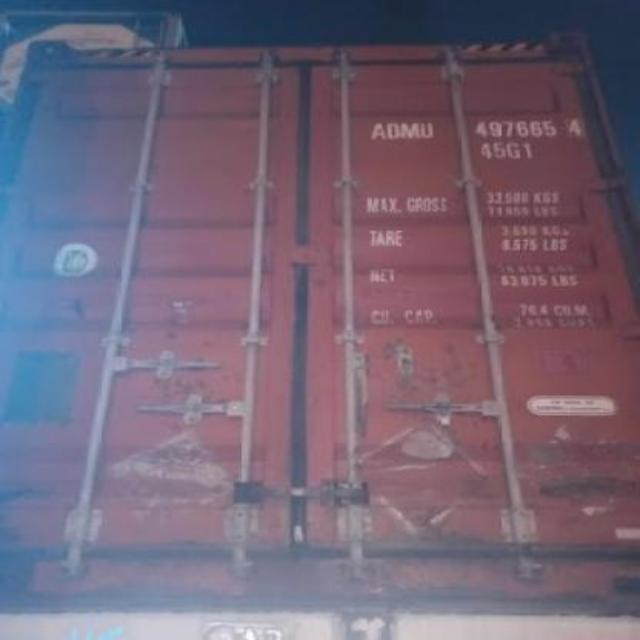4: (564, 118, 582, 138), (474, 115, 488, 139)
5: (540, 112, 560, 138)
6: (516, 116, 530, 140), (530, 115, 544, 139)
7: (500, 112, 516, 138)
9: (486, 115, 502, 142)
A: (368, 119, 386, 143)
D: (386, 118, 399, 142)
M: (400, 118, 420, 146)
U: (418, 117, 436, 143)
